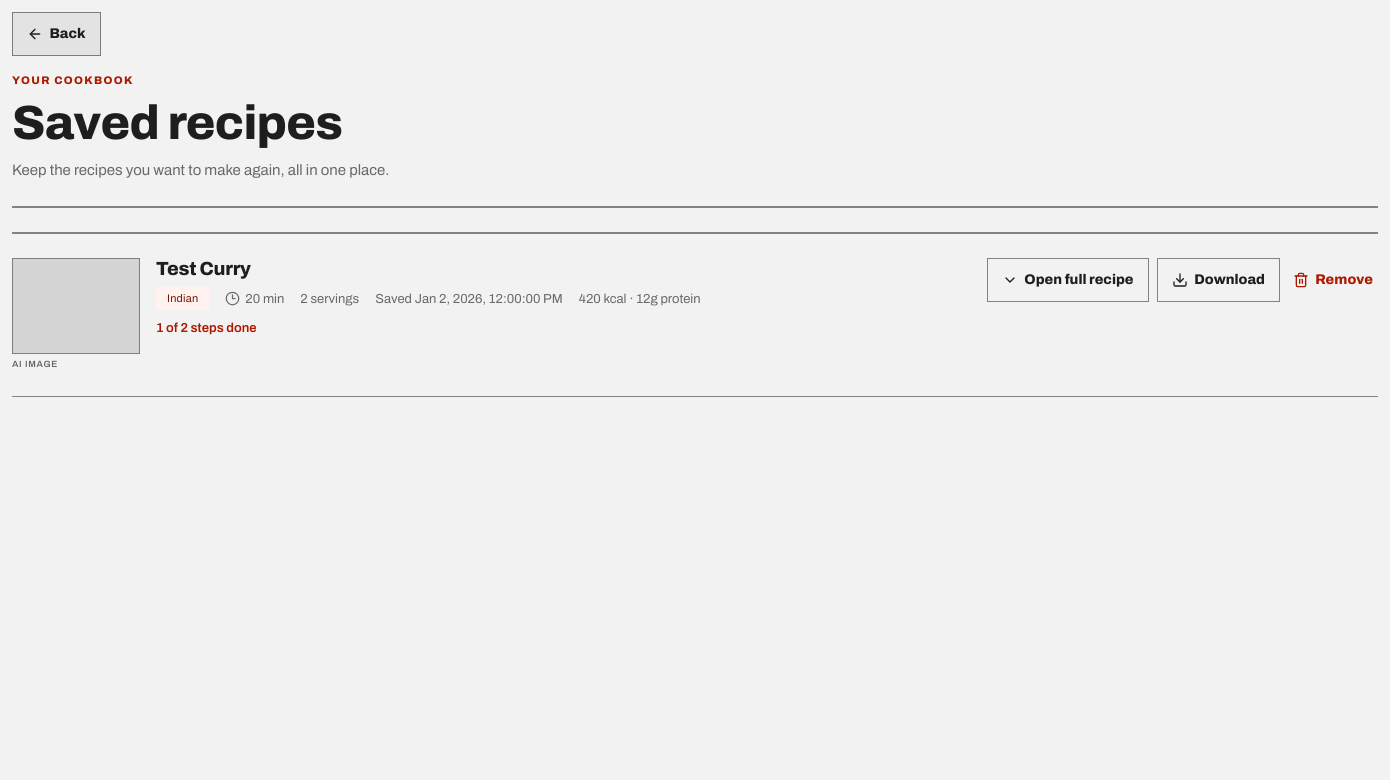
Test: SavedRecipesScreen › restores captured ingredient and read-only step state in full detail
Click the button "Open full recipe" at (1068, 280), box top-left (987, 258), bottom-right (1149, 302)
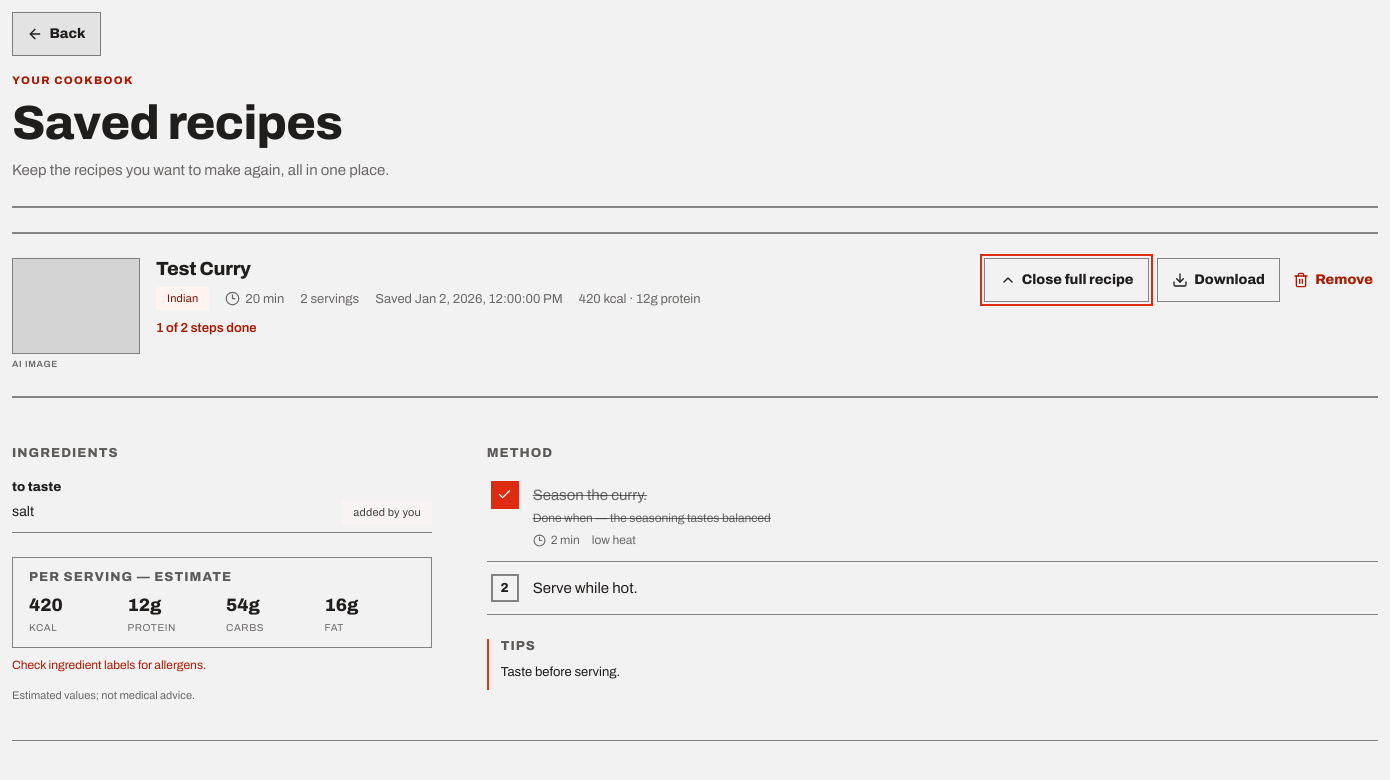
expect the 6th icon is shown: met, box top-left (497, 487), bottom-right (512, 502)
expect the text "salt" is shown: met, box top-left (12, 504), bottom-right (34, 519)
expect the text "added by you" is shown: met, box top-left (342, 501), bottom-right (432, 524)
